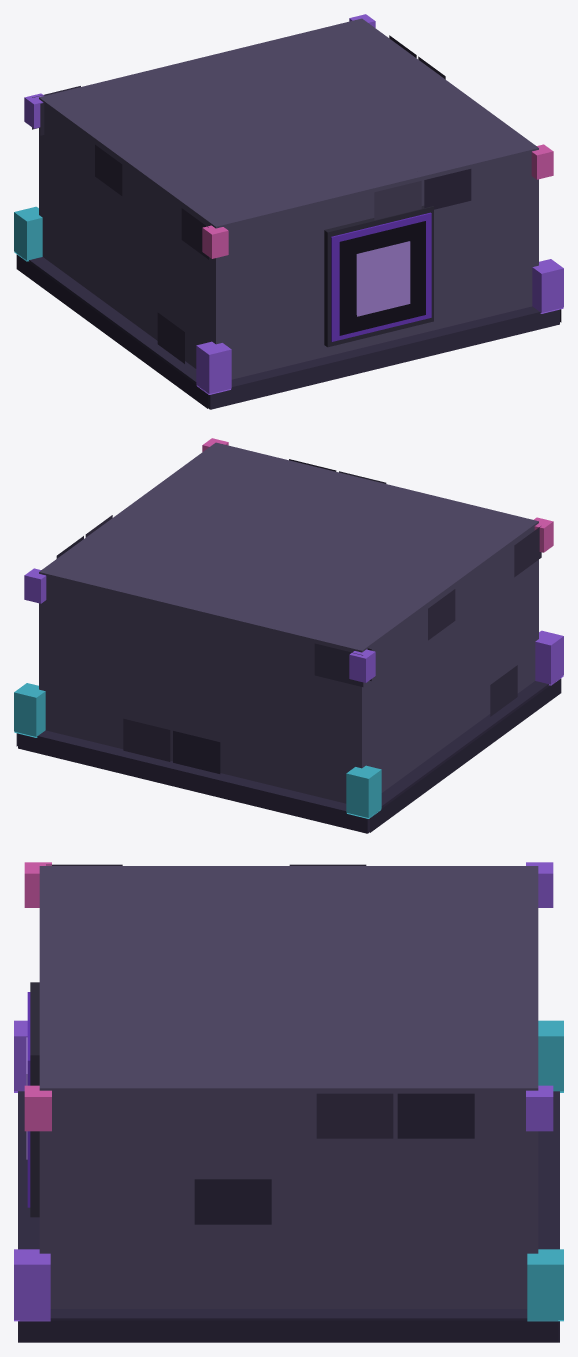
Rendered from CrystalDinoSil.fbx.
3 views of the same model, one above another, from view 1: azimuth 30°, elevation 25°; view 2: azimuth 150°, elevation 25°; view 3: azimuth 270°, elevation 25° (orthographic). The views are drawn at different scales.
Parts seen in each view (by area): view 1: CD_S_All; view 2: CD_S_All; view 3: CD_S_All.
Part boxes in pixels (x1,y1,x2,y2): CD_S_All: (14,14,563,409); CD_S_All: (14,438,563,833); CD_S_All: (14,862,563,1342).
Bounding box in the file's own units: 42.64 × 20 × 40.64.
